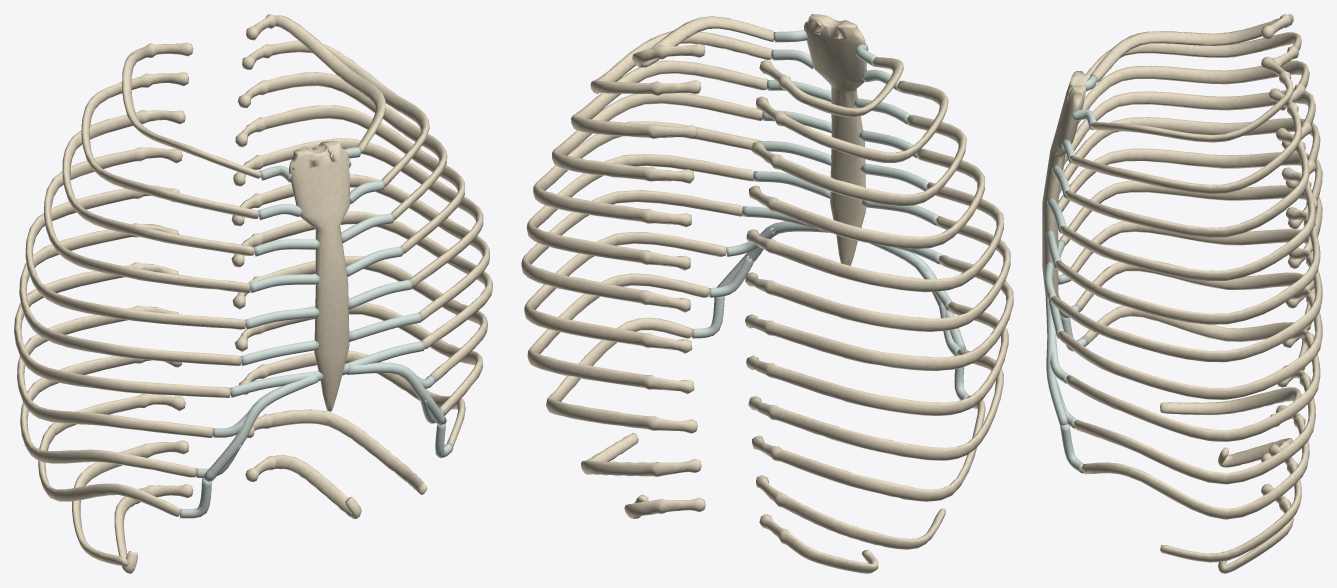
File: ribcage.glb
3 views of the same model, side by side, from view 1: azimuth 30°, elevation 25°; view 2: azimuth 150°, elevation 25°; view 3: azimuth 270°, elevation 25° (orthographic). The views are drawn at different scales.
Parts seen in each view (by area): view 1: Sternum with manubrium body and xiphoid, Left rib 06, Left rib 07, Left rib 04, Left rib 05, Right rib 04, Left rib 08, Left rib 03, Left rib 09, Right rib 05, Left rib 10, Right rib 03 (+25 smaller); view 2: Sternum with manubrium body and xiphoid, Right rib 07, Right rib 06, Left rib 07, Left rib 06, Right rib 08, Right rib 04, Left rib 05, Left rib 08, Right rib 09, Right rib 03, Left rib 09 (+19 smaller); view 3: Right rib 06, Right rib 07, Right rib 05, Right rib 08, Right rib 04, Left rib 06, Right rib 09, Left rib 04, Left rib 03, Right rib 03, Right rib 10, Sternum with manubrium body and xiphoid (+15 smaller).
Part boxes in pixels (x1,y1,x2,y2): Sternum with manubrium body and xiphoid: [289, 140, 350, 411]; Left rib 06: [19, 223, 241, 365]; Left rib 07: [14, 262, 230, 397]; Left rib 04: [44, 147, 250, 292]; Left rib 05: [25, 185, 245, 329]; Right rib 04: [235, 105, 464, 254]; Left rib 08: [17, 305, 212, 437]; Left rib 03: [62, 110, 254, 255]; Left rib 09: [20, 356, 196, 477]; Right rib 05: [233, 138, 483, 288]; Left rib 10: [38, 393, 185, 516]; Right rib 03: [238, 72, 447, 220]; Sternum with manubrium body and xiphoid: [804, 14, 866, 265]; Right rib 07: [521, 190, 742, 312]; Right rib 06: [526, 154, 753, 270]; Left rib 07: [745, 255, 1013, 370]; Left rib 06: [745, 216, 1010, 331]; Right rib 08: [524, 232, 726, 353]; Right rib 04: [552, 93, 762, 183]; Left rib 05: [746, 182, 1003, 292]; Left rib 08: [746, 301, 1008, 415]; Right rib 09: [527, 273, 709, 393]; Right rib 03: [571, 60, 767, 138]; Left rib 09: [748, 349, 1003, 460]; Right rib 06: [1050, 247, 1322, 362]; Right rib 07: [1058, 288, 1322, 399]; Right rib 05: [1055, 207, 1320, 324]; Right rib 08: [1066, 329, 1320, 441]; Right rib 04: [1060, 167, 1315, 281]; Left rib 06: [1058, 148, 1322, 229]; Right rib 09: [1074, 365, 1315, 484]; Left rib 04: [1065, 90, 1315, 161]; Left rib 03: [1078, 60, 1309, 123]; Right rib 03: [1064, 127, 1309, 237]; Right rib 10: [1081, 405, 1309, 519]; Sternum with manubrium body and xiphoid: [1042, 71, 1086, 297].
Size of the model in its own units: 0.3019 by 0.3308 by 0.1755.
Materials: 2 (2 with a texture image).
